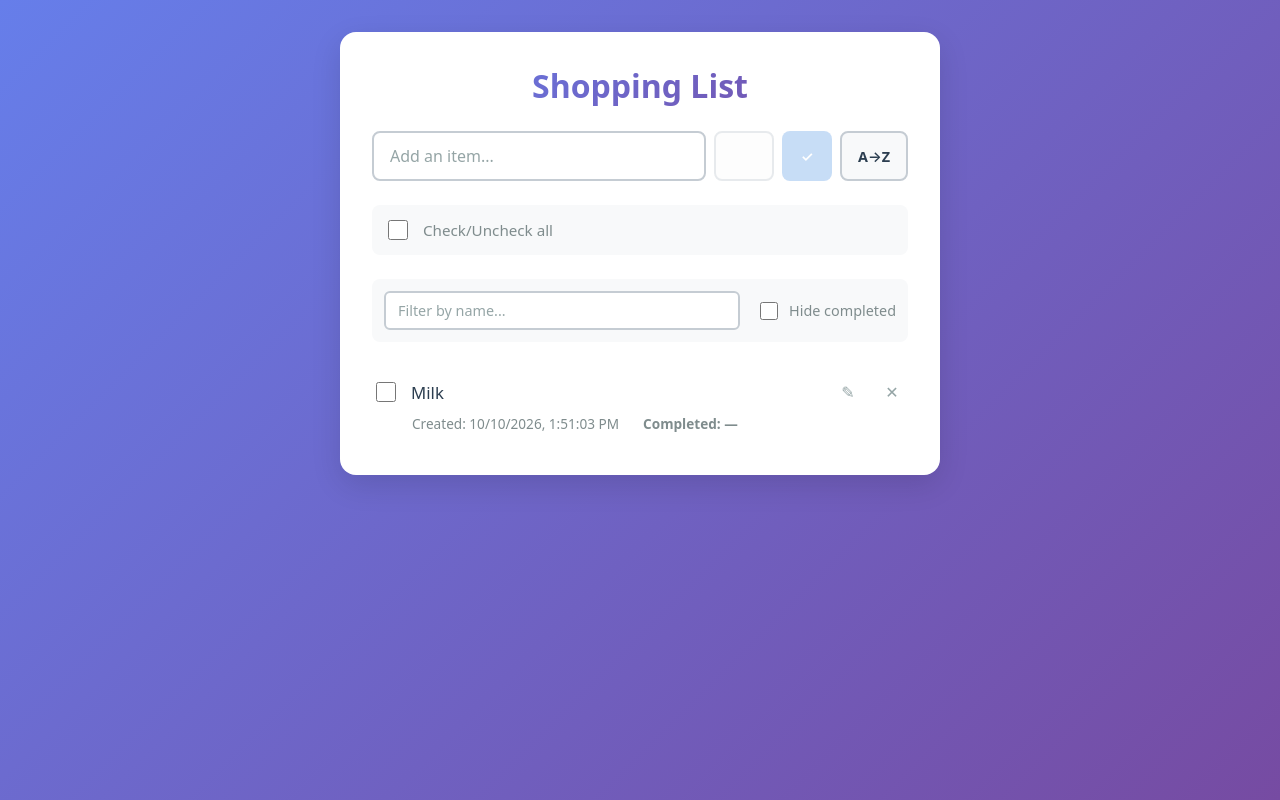
Test: App › removes an item when clicking the delete button
This screenshot has width=1280, height=800.
Expected: the text "Milk" is shown, x1=411 y1=381 x2=444 y2=404
Click the button "✕" at (892, 392), box x1=876 y1=376 x2=908 y2=408
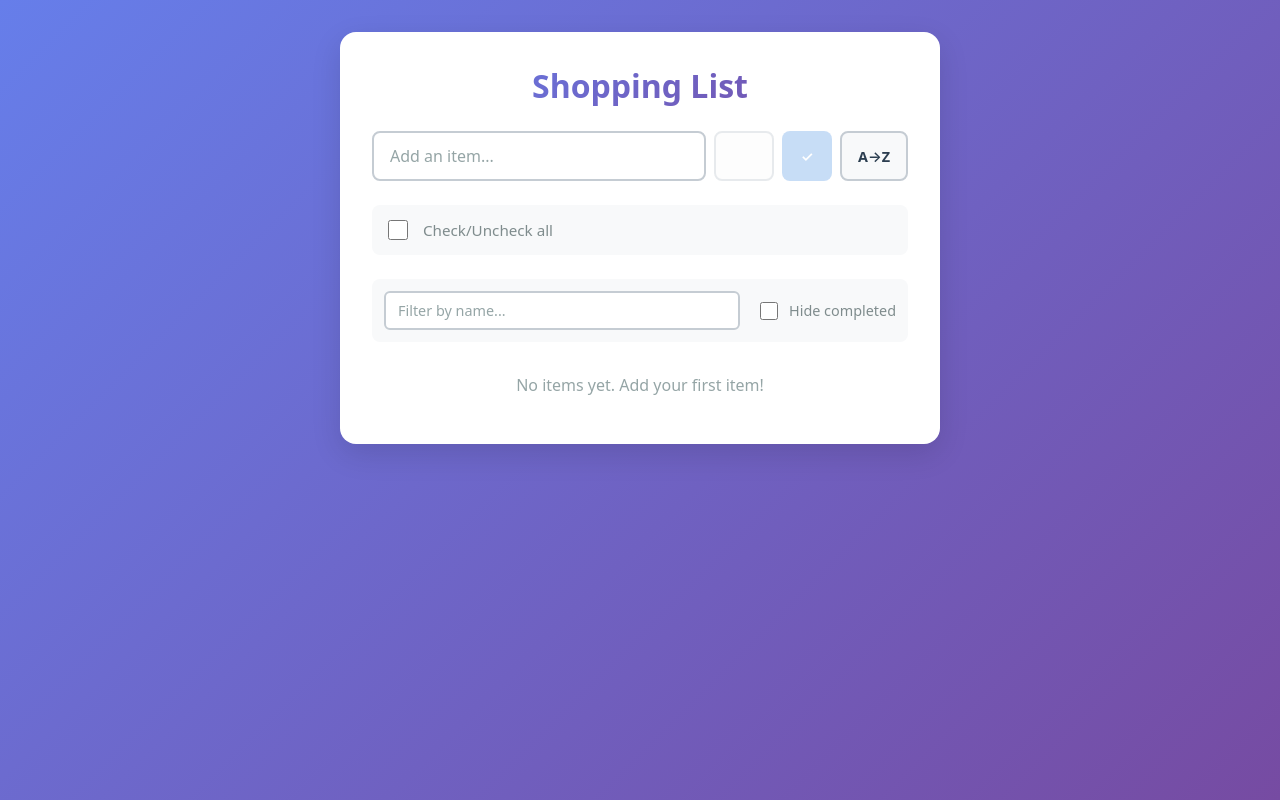
Result: the text "Milk" is gone
